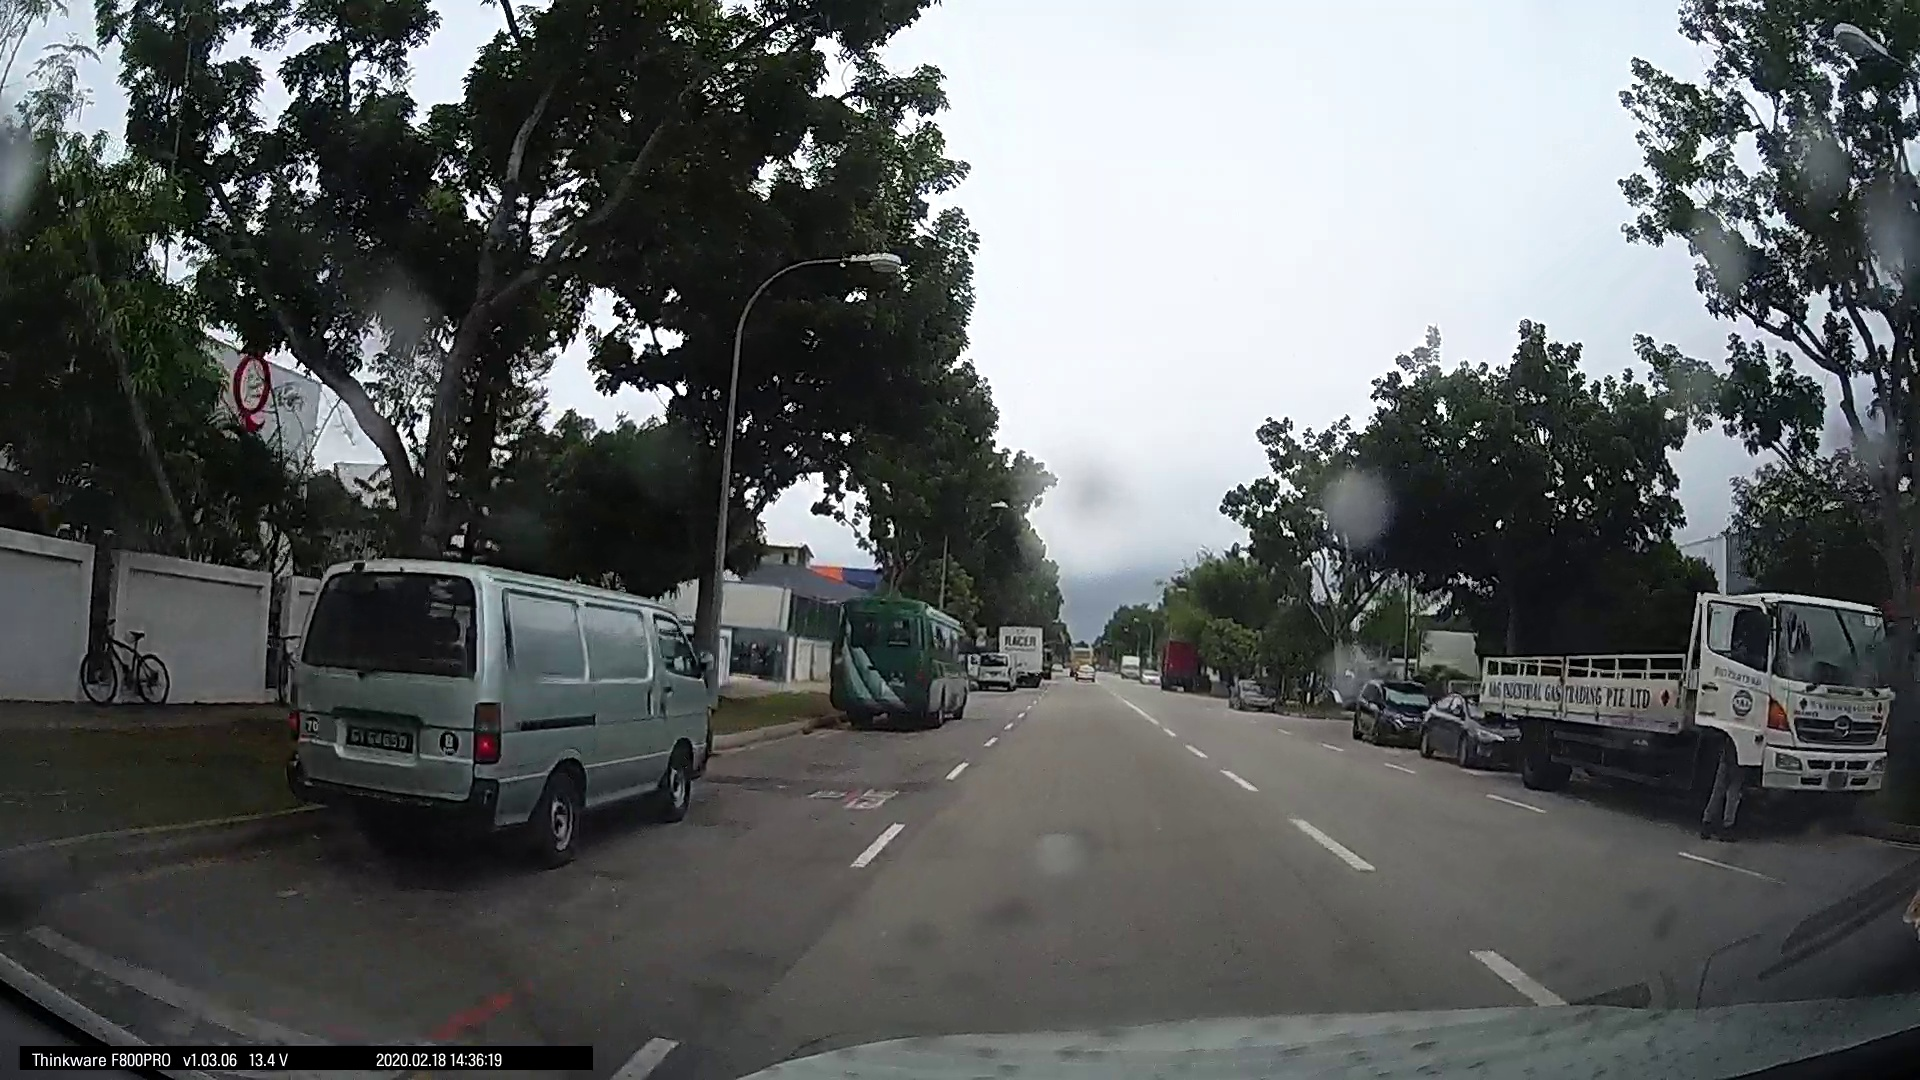Heavy Vehicle: (1497, 571, 1895, 816), (822, 597, 973, 733)
Light Vehicle: (278, 558, 719, 862), (1415, 687, 1507, 770), (1350, 676, 1424, 746)
